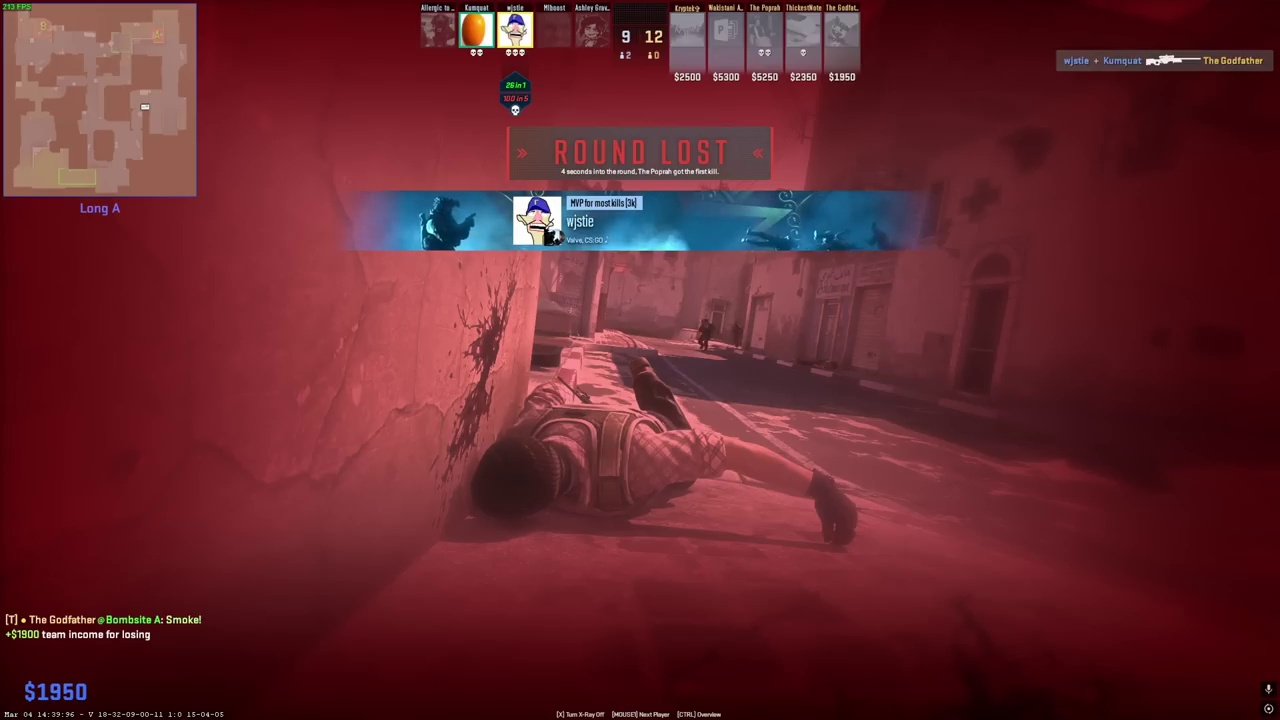CT: (697, 317, 713, 351)
